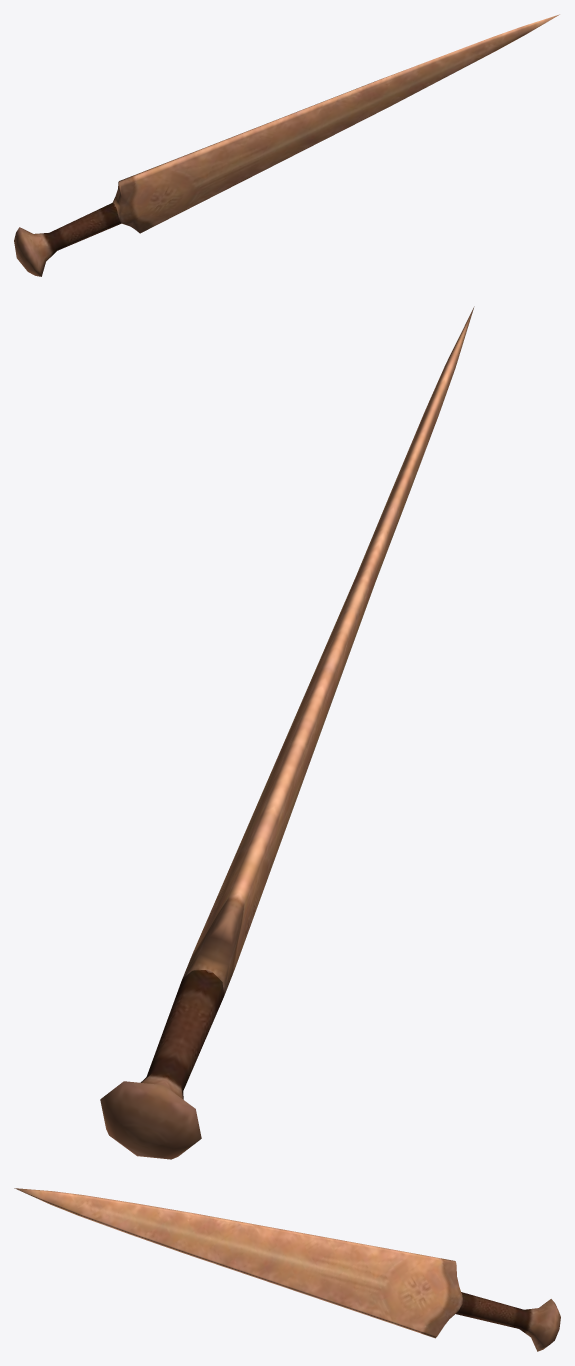
The model's file is weapon-ironweapons.glb.
The picture shows the model from 3 angles, top to bottom: view 1: azimuth 90°, elevation 25°; view 2: azimuth 150°, elevation 25°; view 3: azimuth 270°, elevation 25°; orthographic projection. The views are drawn at different scales.
Bounding box in the file's own units: 0.2689 × 0.4304 × 1.02.
Materials: 1 (1 with a texture image).
